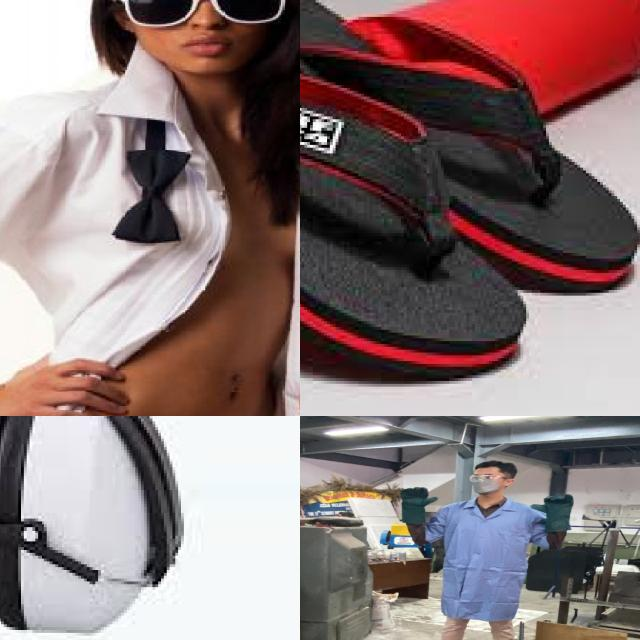Ear-protection: (0, 416, 144, 629)
Sandals: (300, 0, 640, 392)
face_mask: (467, 473, 504, 495)
face_nomask: (127, 0, 268, 62)
glasses: (113, 0, 289, 27), (465, 472, 515, 483)
hand_glove: (525, 492, 577, 517), (392, 484, 440, 509)
hand_noglove: (0, 344, 132, 416)
head_nohelmet: (470, 458, 520, 474)
person: (0, 0, 300, 416), (393, 459, 582, 640)
